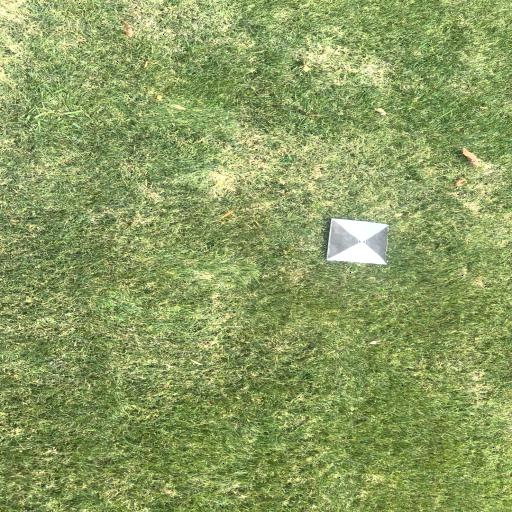target: (328, 219, 387, 264)
